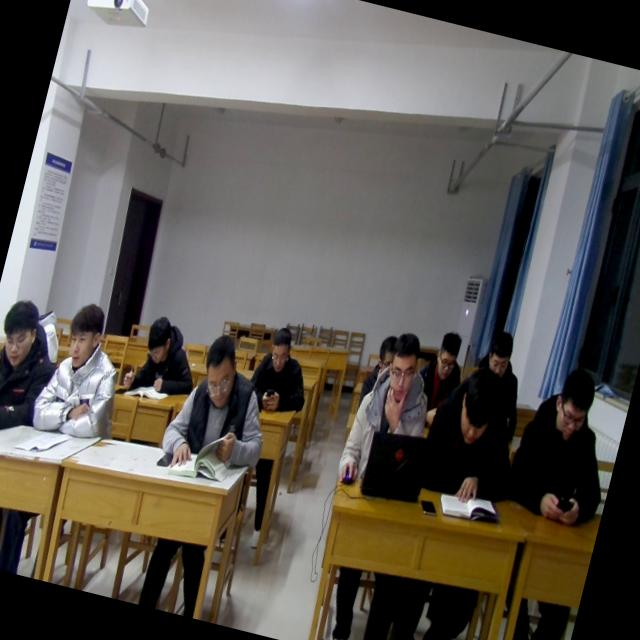down: (190, 329, 255, 418), (544, 360, 607, 448), (451, 367, 505, 445), (0, 291, 46, 372), (379, 327, 426, 402), (140, 310, 178, 366), (428, 323, 464, 382), (262, 326, 297, 378), (482, 328, 518, 376), (372, 328, 402, 372)
lookup: (59, 300, 109, 376)
sit: (502, 355, 632, 531), (154, 324, 288, 485), (333, 324, 447, 504), (408, 356, 534, 516), (26, 293, 140, 447), (0, 291, 68, 448), (118, 303, 210, 401), (458, 322, 542, 429), (244, 320, 322, 421), (406, 325, 474, 428), (354, 326, 404, 420)
